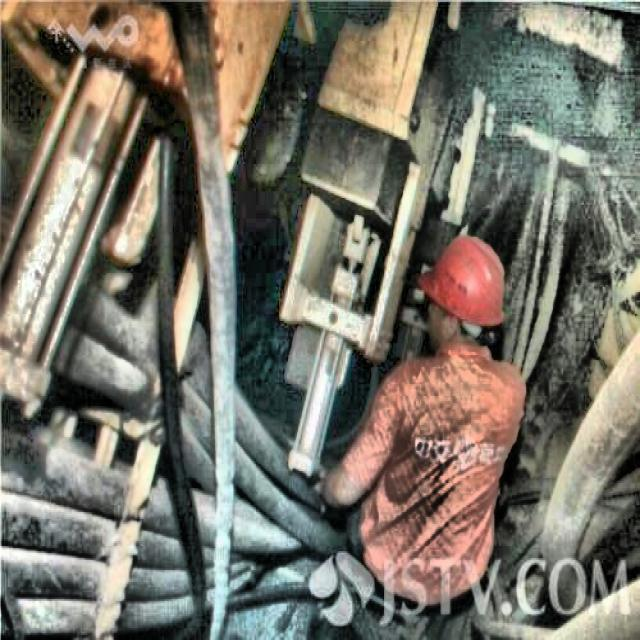helmet: (420, 231, 513, 360)
